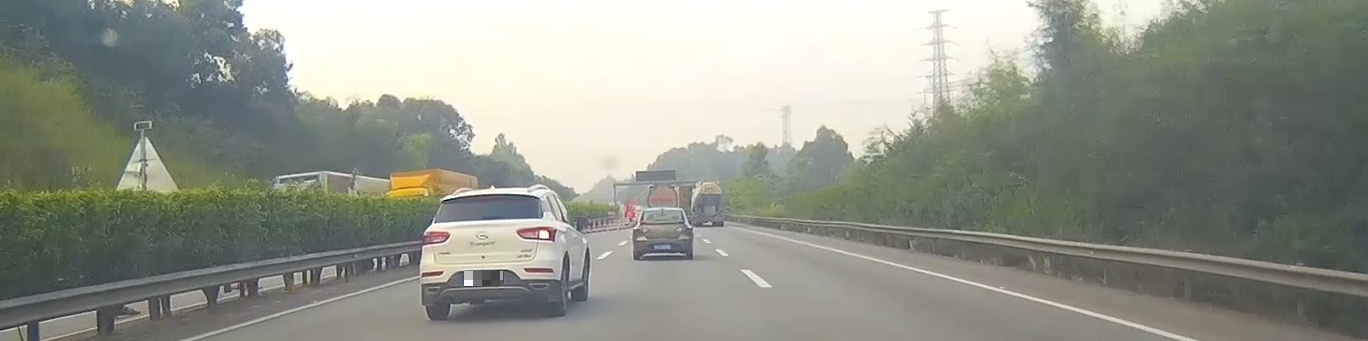L_light: (421, 231, 451, 245), (634, 226, 650, 233)
R_light: (516, 226, 557, 242), (675, 225, 691, 233)
T_light: (474, 194, 495, 199), (658, 209, 667, 212)
day-no: (631, 207, 694, 260)
day-right: (418, 189, 564, 319)
plate_1: (464, 271, 503, 286)
